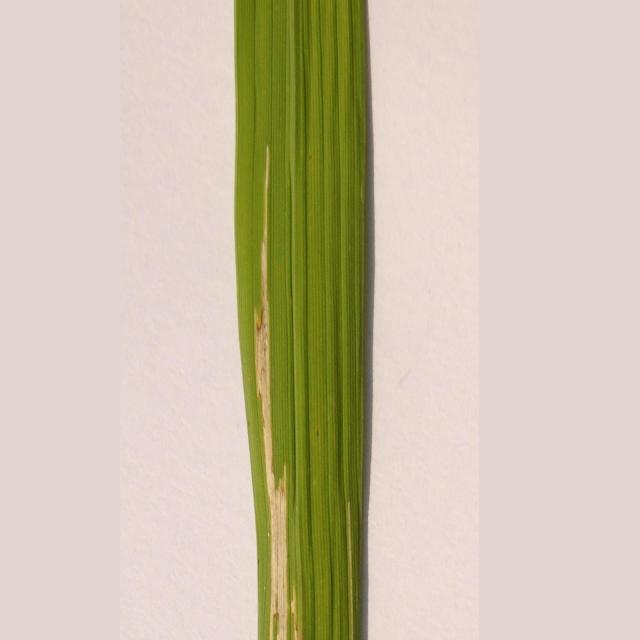leaf blight: (238, 140, 314, 638)
